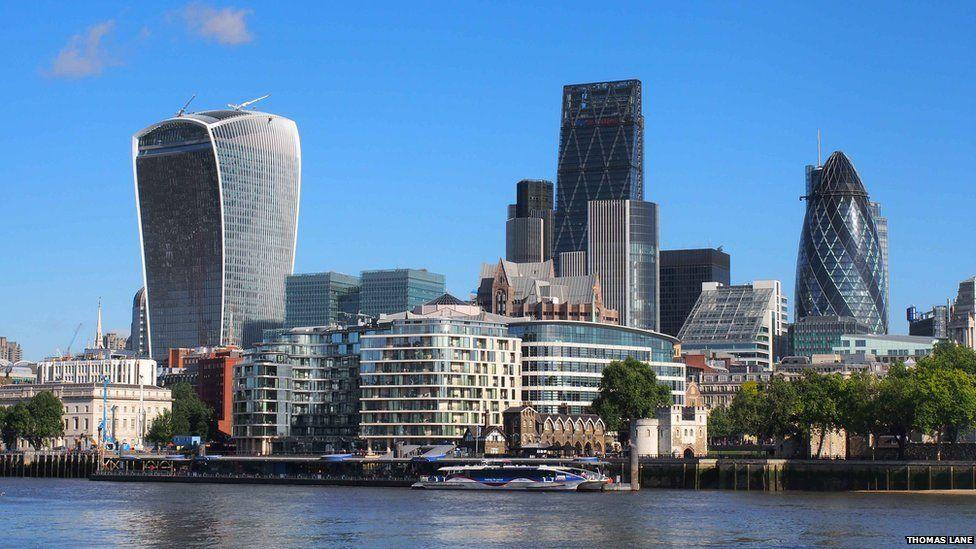Walkie talkie: (125, 96, 305, 352)
